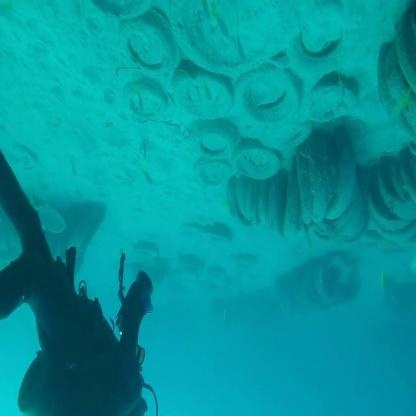tire: (227, 60, 308, 136), (356, 154, 416, 255), (117, 21, 180, 97), (298, 58, 356, 132), (161, 63, 236, 118), (235, 164, 284, 238), (236, 126, 286, 183), (326, 240, 364, 299), (195, 117, 242, 157)
